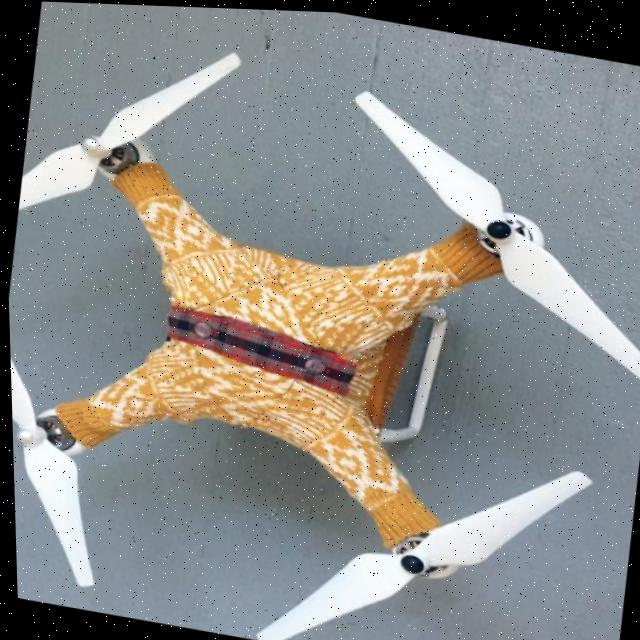drones: (0, 1, 640, 640)
